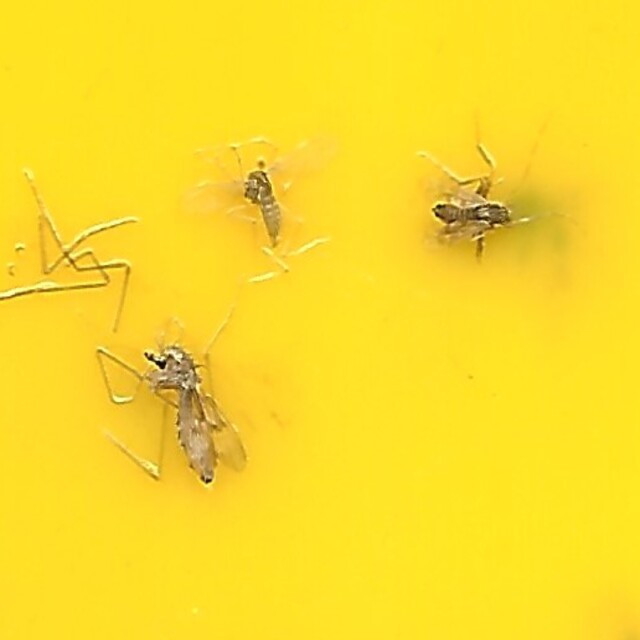Nematocera: (124, 345, 263, 497), (428, 143, 516, 261), (237, 148, 293, 252)
